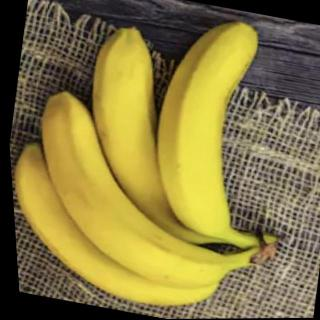banana: (10, 84, 284, 304), (59, 15, 289, 256), (7, 133, 273, 320), (128, 4, 296, 252)
